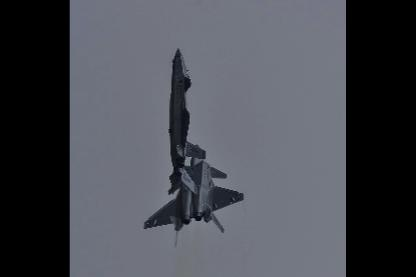F4: (144, 144, 244, 248), (169, 48, 206, 195)
